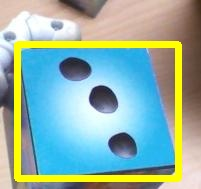Blue3: (17, 44, 178, 178)
